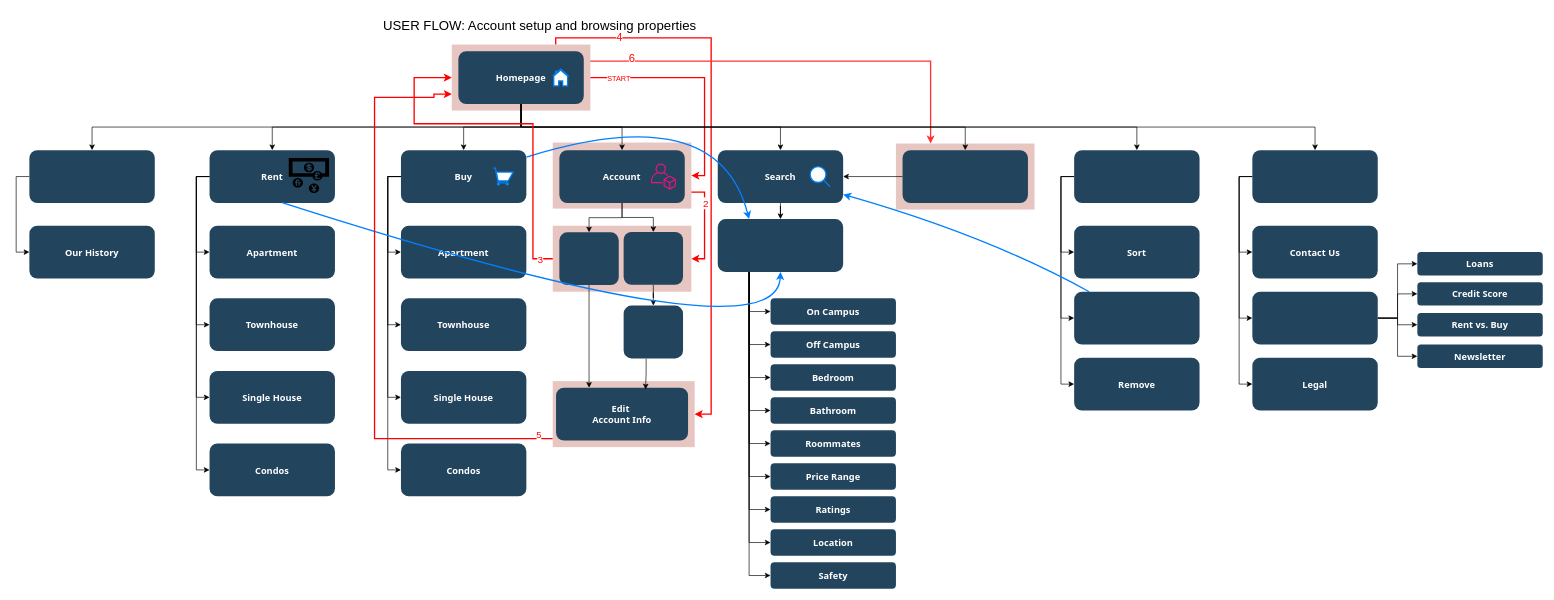
Image size: 1554x600. Some labels were removed from this diagram. Here are the shapes that lost their labels. From the top down, the centre of each, then its label:
At (91,176): "About Us".
At (965,176): "Browse Listings".
At (1136,176): "Saved".
At (1314,176): "Help".
At (588,258): "Log In".
At (653,258): "Create Account".
At (780,245): "Filter".
At (653,331): "Account Setup".
At (1136,317): "Add".
At (1314,317): "FAQ".
